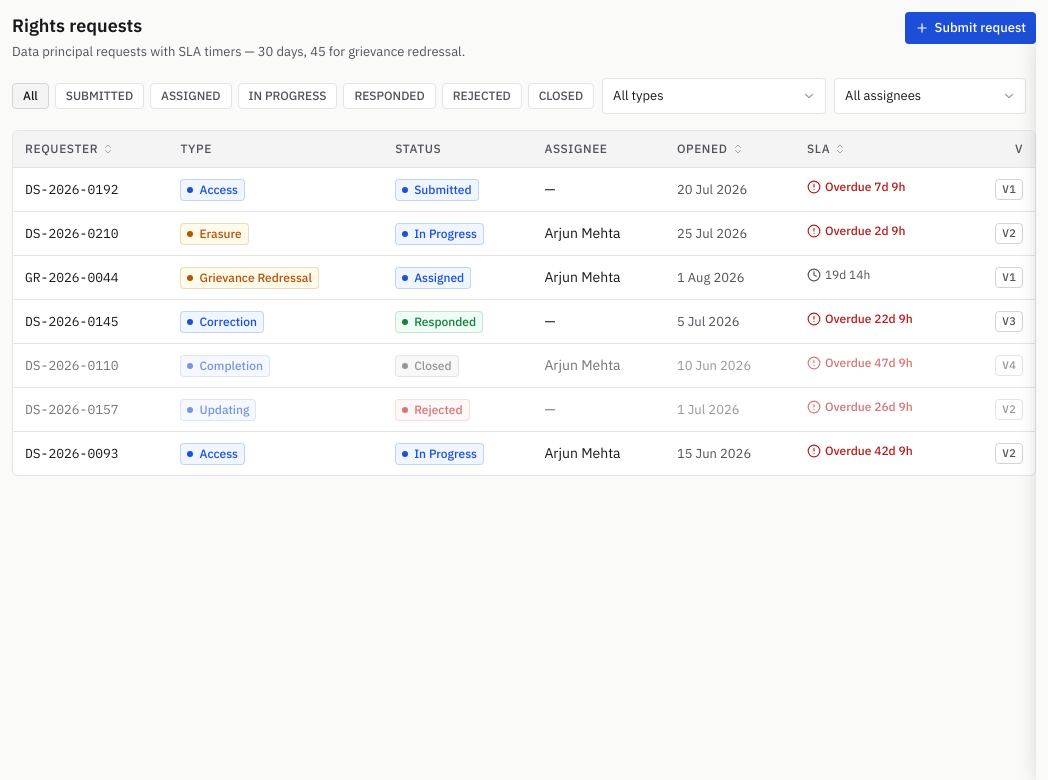
Test case: RightsView (§9.6) › filters the queue by status
The image size is (1048, 780).
Check: the text "DS-2026-0192" is shown, box left=25, top=181, right=119, bottom=198
Click the button "IN PROGRESS".
click(287, 96)  # box left=238, top=82, right=337, bottom=108
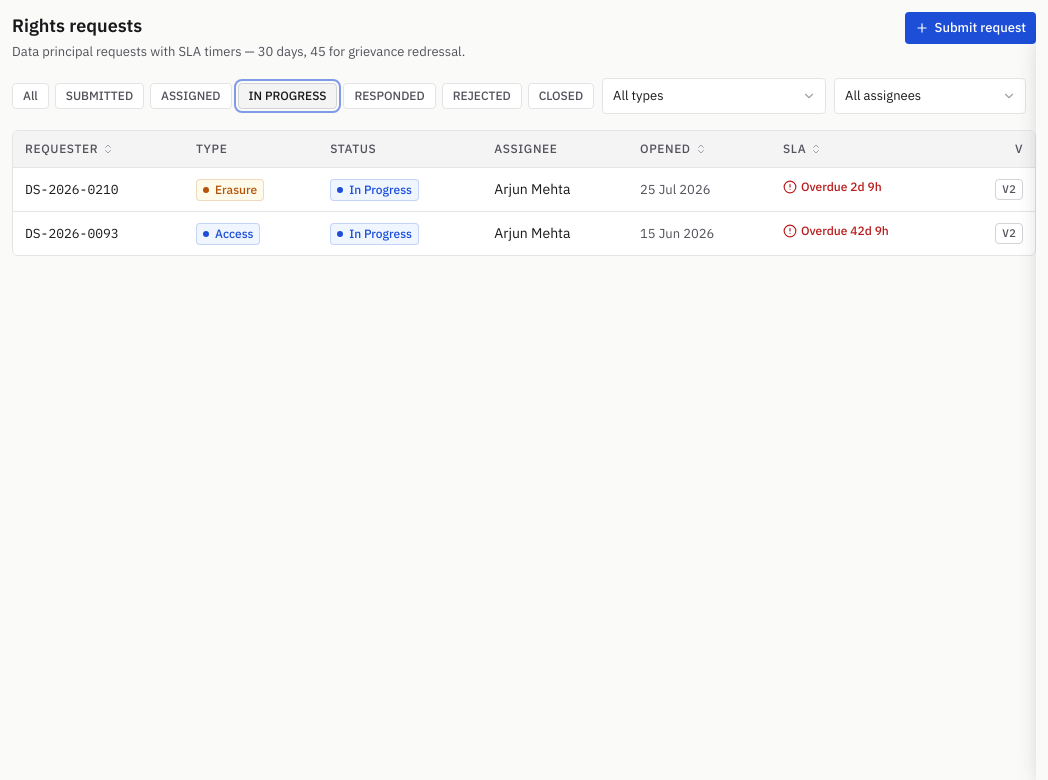
Check: the text "DS-2026-0210" is shown, box left=25, top=181, right=119, bottom=198
Check: the text "DS-2026-0192" is gone
Check: the text "DS-2026-0110" is gone
